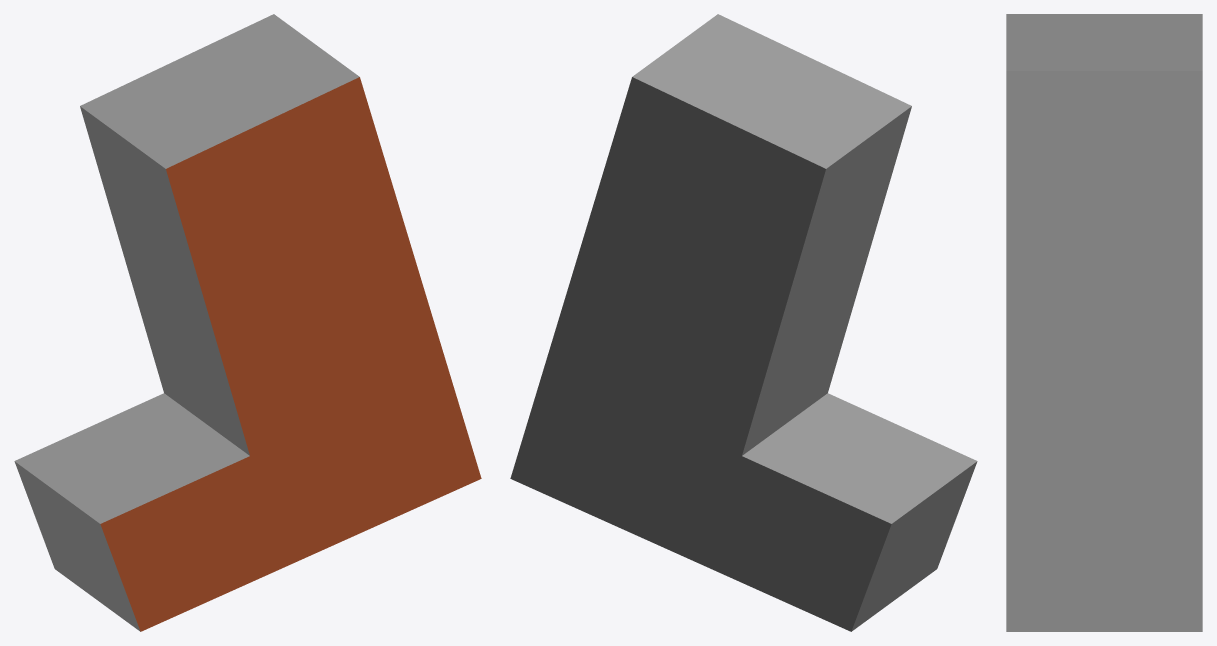
Rendered from construction_2173_assumed_A_Casa_h6m.obj.
3 views of the same model, side by side, from view 1: azimuth 30°, elevation 25°; view 2: azimuth 150°, elevation 25°; view 3: azimuth 270°, elevation 25° (orthographic). The views are drawn at different scales.
Visible parts, largest first — view 1: construction_2173_assumed_A_Casa; view 2: construction_2173_assumed_A_Casa; view 3: construction_2173_assumed_A_Casa.
Boxes of the visible parts, left/top/right/bottom form: construction_2173_assumed_A_Casa: left=14, top=14, right=481, bottom=631; construction_2173_assumed_A_Casa: left=510, top=14, right=977, bottom=631; construction_2173_assumed_A_Casa: left=1006, top=14, right=1202, bottom=631.
Size of the model in its own units: 15.36 by 19.32 by 6.
